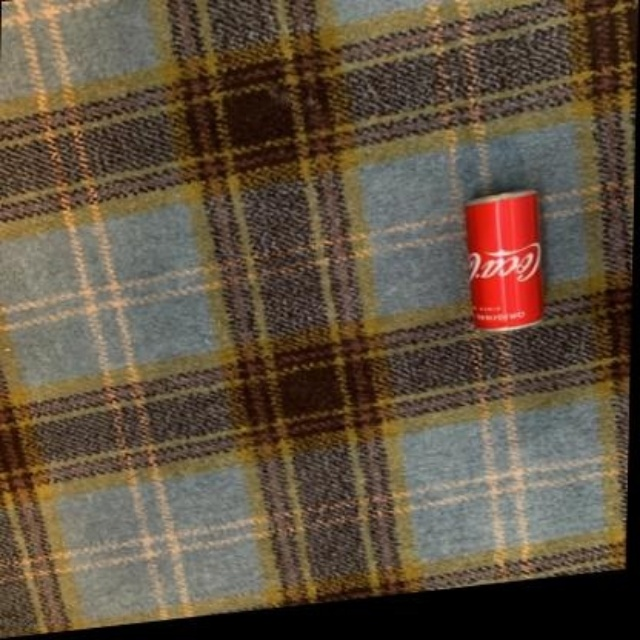trash: (466, 191, 540, 328)
